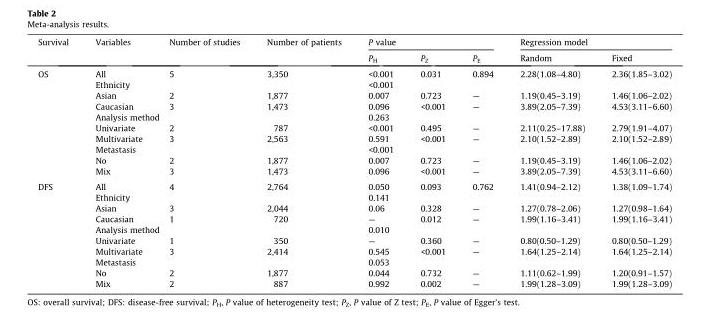table: (37, 36, 671, 288)
table column: (252, 36, 354, 288), (155, 36, 252, 288), (506, 36, 597, 288), (81, 36, 155, 288), (597, 36, 671, 288), (354, 36, 406, 288), (406, 36, 458, 288), (458, 36, 506, 288), (37, 36, 81, 288)
table column header: (37, 36, 671, 65)
table row: (37, 49, 671, 65), (37, 36, 671, 49), (37, 65, 671, 78), (37, 165, 671, 178), (37, 178, 671, 191), (37, 78, 671, 89), (37, 89, 671, 100), (37, 100, 671, 111), (37, 121, 671, 132), (37, 132, 671, 143), (37, 143, 671, 154), (37, 154, 671, 165), (37, 191, 671, 202), (37, 212, 671, 223), (37, 223, 671, 234), (37, 234, 671, 245), (37, 245, 671, 256), (37, 266, 671, 277), (37, 277, 671, 288), (37, 111, 671, 121), (37, 202, 671, 212), (37, 256, 671, 266)
table spanning cell: (37, 65, 81, 178), (37, 178, 81, 288), (252, 36, 354, 65), (155, 36, 252, 65), (81, 36, 155, 65), (506, 36, 671, 49), (354, 36, 506, 49), (81, 78, 252, 89), (81, 143, 252, 154), (81, 191, 252, 202), (81, 223, 252, 234), (81, 111, 252, 121), (81, 256, 252, 266), (37, 36, 81, 65)
